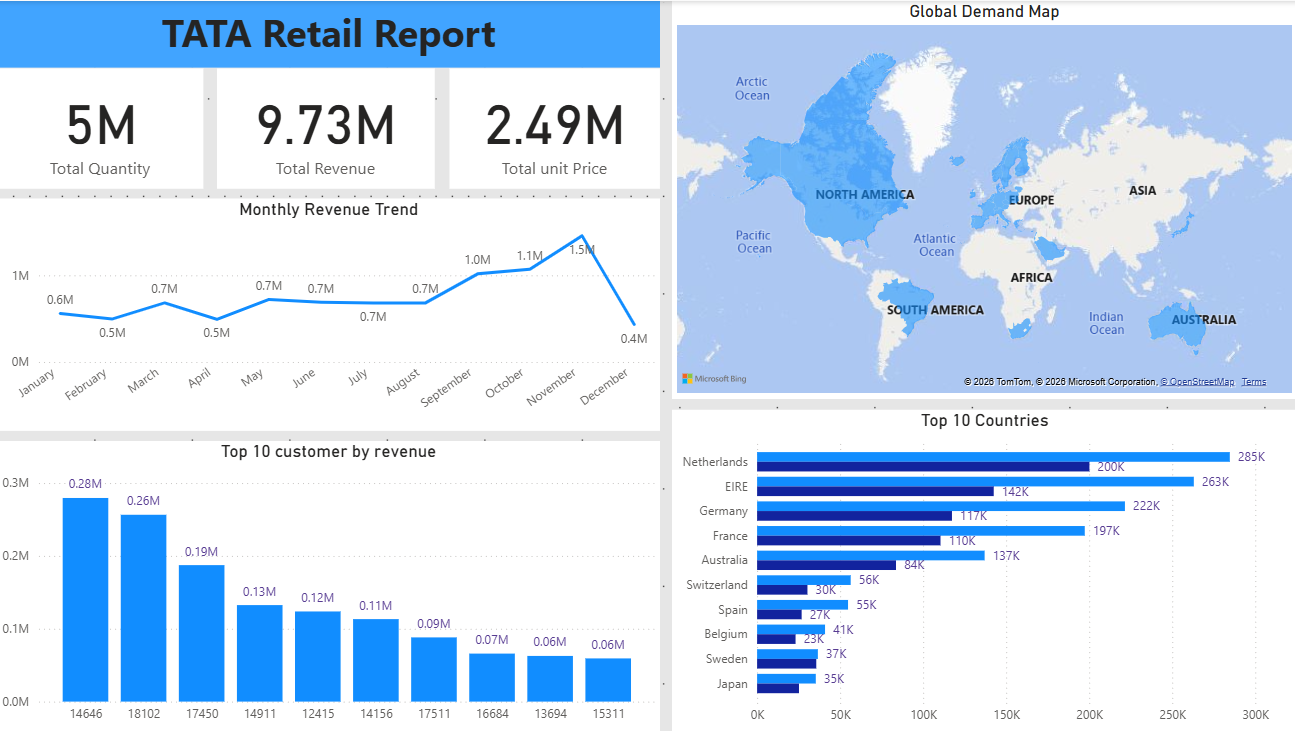

The dashboard page shown, as its layout file describes it:
{"tool":"powerbi","page":{"name":"Page 1","canvas":[1280,720],"ordinal":0},"visuals":[{"type":"lineChart","title":" Monthly Revenue Trend","fields":{"Category":["Online Retail.InvoiceDate.Variation.Date Hierarchy.Year","Online Retail.InvoiceDate.Variation.Date Hierarchy.Month"],"Y":["Sum(Online Retail.Revenue)"]},"box":[0,194.9,653.2,229.2],"z":0},{"type":"clusteredBarChart","title":"Top 10 Countries","fields":{"Y":["Sum(Online Retail.Revenue)","Sum(Online Retail.Quantity)"],"Category":["Online Retail.Country"]},"box":[664.2,402.1,616.1,318.4],"z":1000},{"type":"clusteredColumnChart","title":"Top 10 customer by revenue","fields":{"Category":["Online Retail.CustomerID"],"Y":["Sum(Online Retail.Revenue)"]},"box":[0,433.6,653.2,286.8],"z":2000},{"type":"filledMap","title":"Global Demand Map","fields":{"Category":["Online Retail.Country"]},"box":[664.6,0,615.4,391.4],"z":3000},{"type":"textbox","box":[0,0,653.2,65.9],"z":4000},{"type":"card","fields":{"Values":["Online Retail.Total Quantity"]},"box":[0,65.9,203.1,118],"z":5000},{"type":"card","fields":{"Values":["Online Retail.Total unit Price"]},"box":[446,65.9,207.2,118],"z":6000},{"type":"card","fields":{"Values":["Online Retail.Total Revenue"]},"box":[216.8,65.9,214.1,118],"z":7000}]}

Visuals, with their boxes in screenshot pixels (x1, y1, x2, y2), scaled from the page's 1280x720 canvas onto the 1295x731 screenshot:
" Monthly Revenue Trend" lineChart: 0:198:661:431
"Top 10 Countries" clusteredBarChart: 672:408:1294:730
"Top 10 customer by revenue" clusteredColumnChart: 0:440:661:730
"Global Demand Map" filledMap: 672:0:1294:397
textbox: 0:0:661:67
card - Online Retail.Total Quantity: 0:67:205:187
card - Online Retail.Total unit Price: 451:67:661:187
card - Online Retail.Total Revenue: 219:67:436:187
